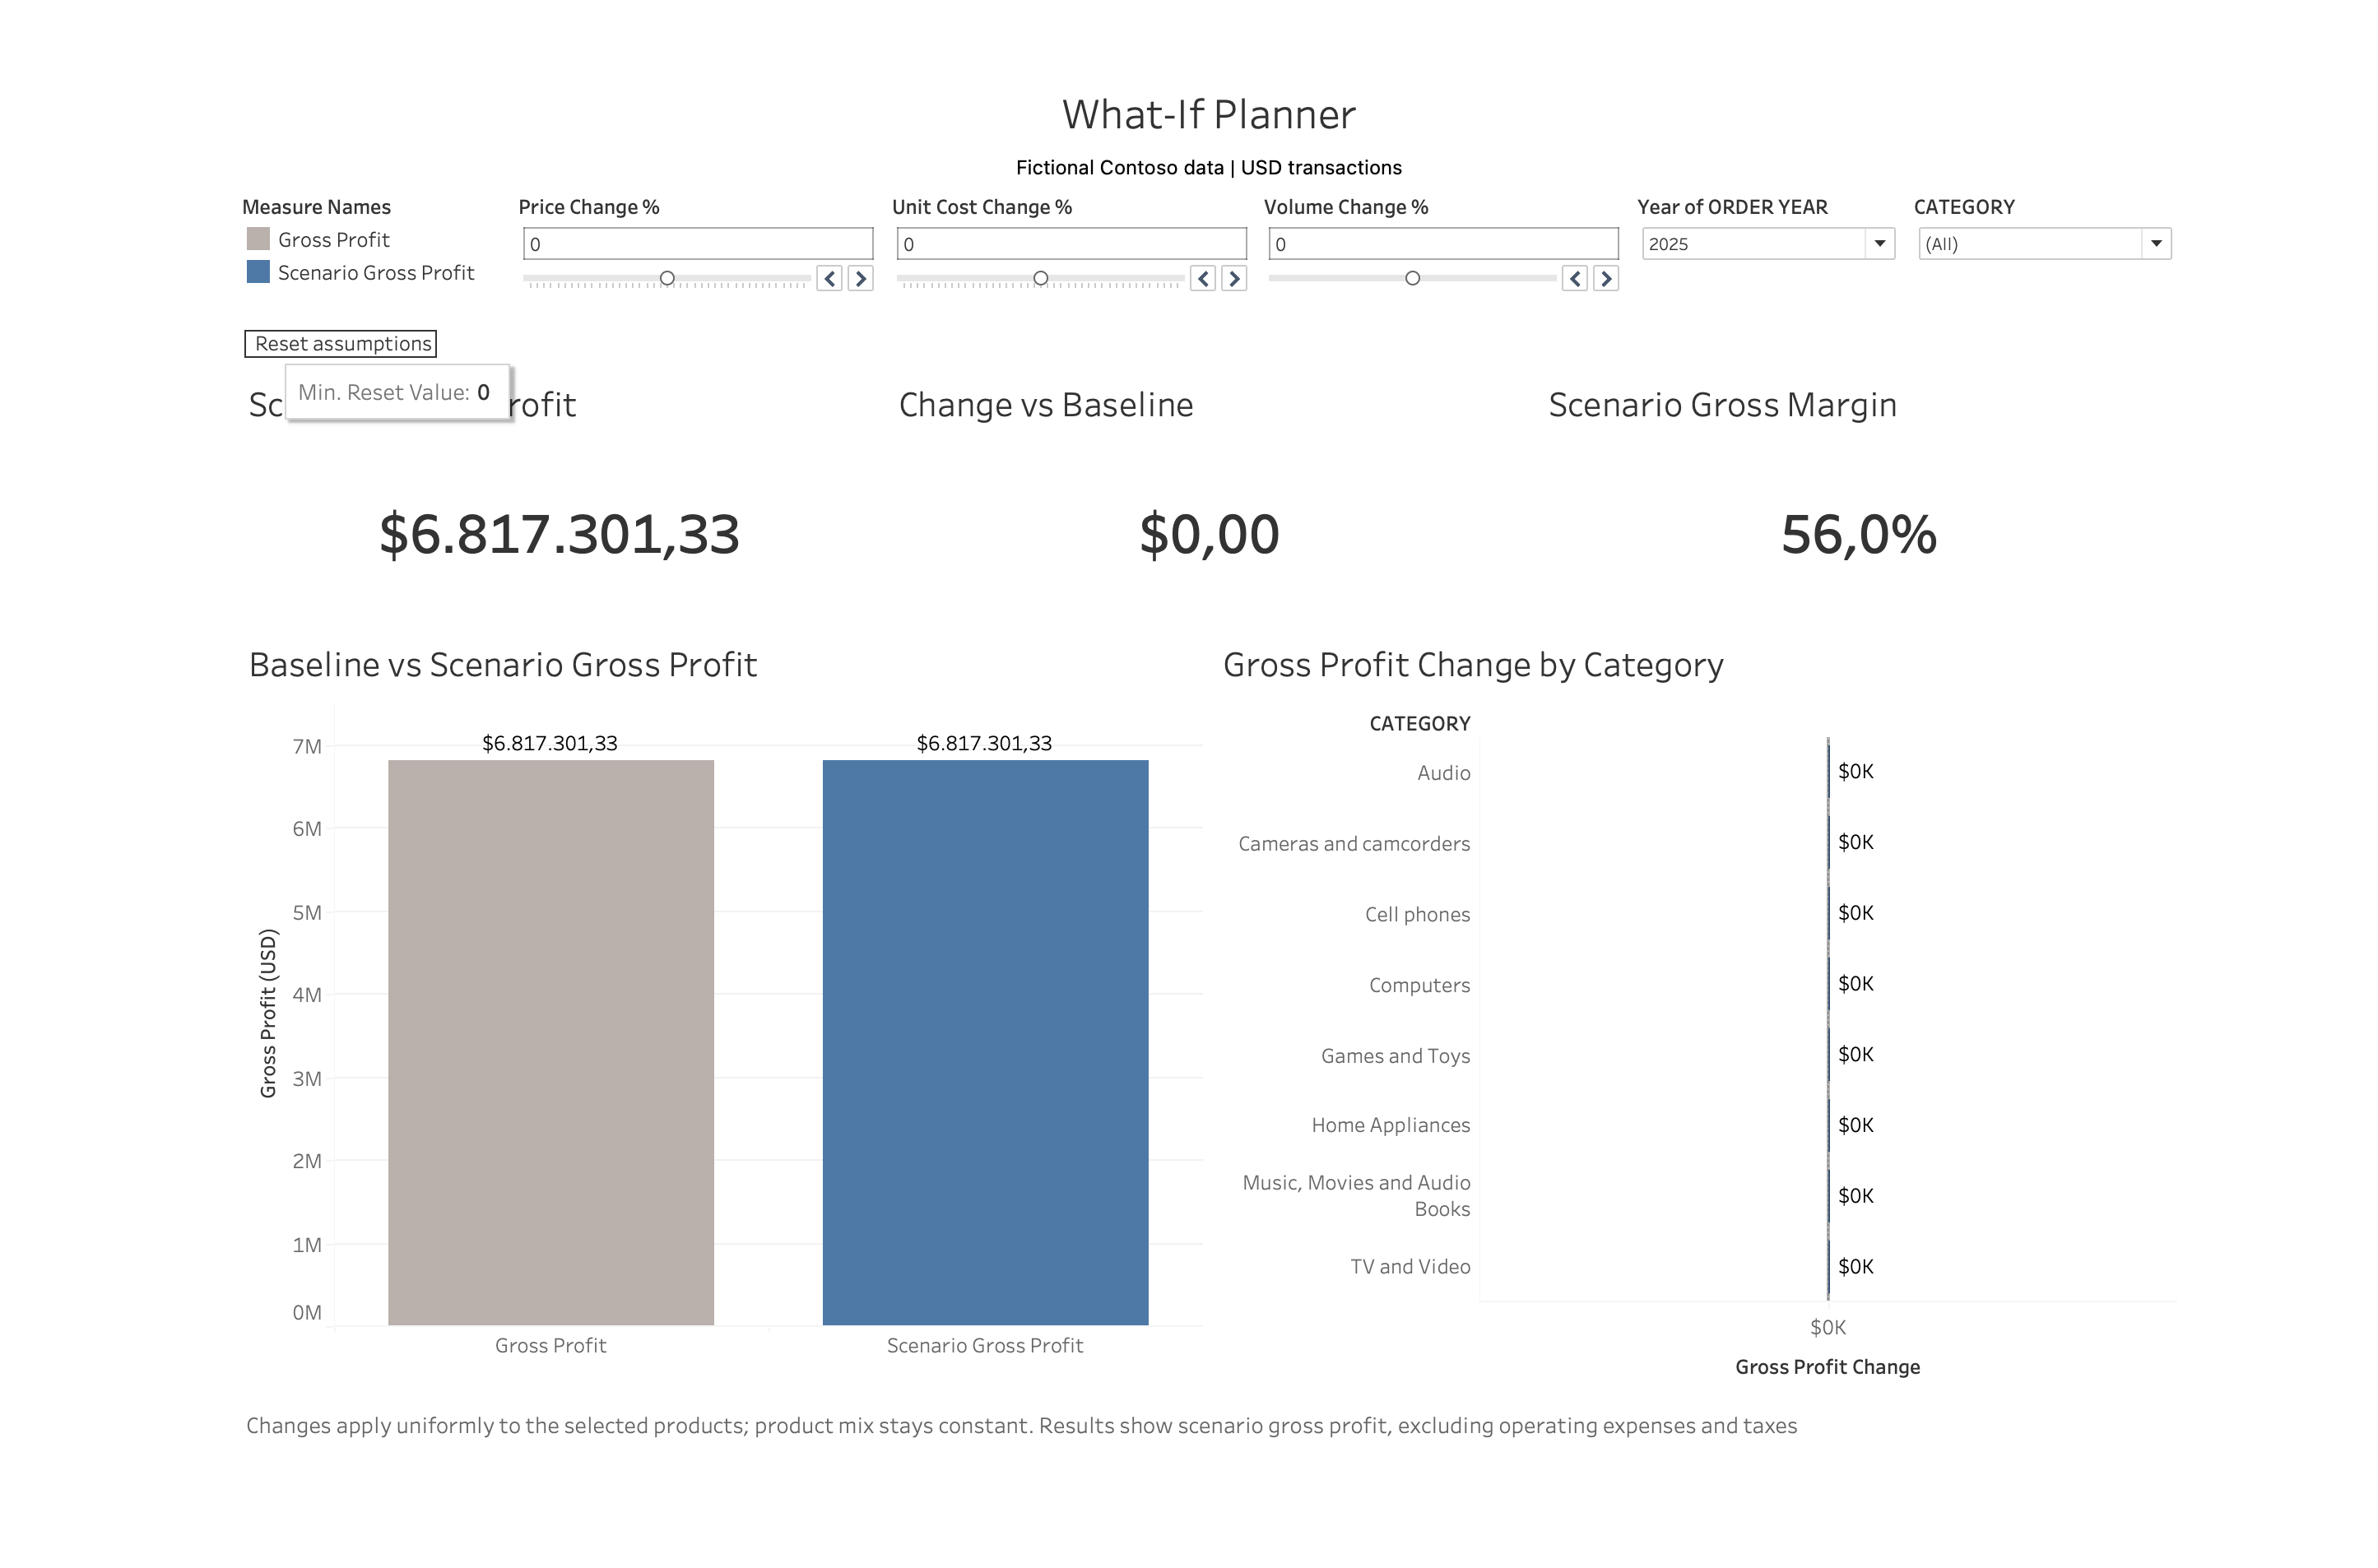

This screenshot's page, from the dashboard's own definition file:
{"tool":"tableau","page":{"name":"3 What-If Planner","canvas":[1200,850],"ordinal":2},"visuals":[{"type":"title","box":[8,8,1184,42]},{"type":"text","box":[8,50,1184,23]},{"type":"legend","title":"12 Baseline vs Scenario","param":"[federated.0wc9mog19mnc4j17oa5d400orr0l].[:Measure Names]","box":[8,73,168,82]},{"type":"parameter","param":"[Parameters].[Parameter 0707992022224899]","box":[176,73,226.7,82]},{"type":"parameter","param":"[Parameters].[Parameter 0707992022790148]","box":[402.7,73,226.7,82]},{"type":"parameter","param":"[Parameters].[Parameter 0707992030785541]","box":[629.3,73,226.7,82]},{"type":"filter","title":"09 Scenario Gross Profit","param":"[federated.0wc9mog19mnc4j17oa5d400orr0l].[yr:ORDER YEAR:ok]","box":[856,73,168,82]},{"type":"filter","title":"09 Scenario Gross Profit","param":"[federated.0wc9mog19mnc4j17oa5d400orr0l].[none:CATEGORY:nk]","box":[1024,73,168,82]},{"type":"worksheet","title":"14 Reset Assumptions","mark":"Text","box":[8,155,1184,28]},{"type":"worksheet","title":"09 Scenario Gross Profit","mark":"Automatic","box":[8,183,395,158]},{"type":"worksheet","title":"10 Gross Profit Change","mark":"Automatic","box":[403,183,395,158]},{"type":"worksheet","title":"11 Scenario Margin","mark":"Automatic","box":[798,183,394,158]},{"type":"worksheet","title":"12 Baseline vs Scenario","mark":"Automatic","box":[8,341,592,469]},{"type":"worksheet","title":"13 Category Impact","mark":"Bar","rows":["CATEGORY"],"cols":["Calculation_0494756247191554"],"box":[600,341,592,469]},{"type":"text","box":[8,810,1184,32]}]}

Visuals, with their boxes on the page's 1200x850 design canvas (x1, y1, x2, y2). These are canvas units, not pixel positions in the 2378x1568 screenshot, which may show the page scaled, cropped or inside an application window:
title: locate(8, 8, 1192, 50)
text: locate(8, 50, 1192, 73)
"12 Baseline vs Scenario" legend: locate(8, 73, 176, 155)
parameter: locate(176, 73, 403, 155)
parameter: locate(403, 73, 629, 155)
parameter: locate(629, 73, 856, 155)
"09 Scenario Gross Profit" filter: locate(856, 73, 1024, 155)
"09 Scenario Gross Profit" filter: locate(1024, 73, 1192, 155)
"14 Reset Assumptions" worksheet (Text marks): locate(8, 155, 1192, 183)
"09 Scenario Gross Profit" worksheet: locate(8, 183, 403, 341)
"10 Gross Profit Change" worksheet: locate(403, 183, 798, 341)
"11 Scenario Margin" worksheet: locate(798, 183, 1192, 341)
"12 Baseline vs Scenario" worksheet: locate(8, 341, 600, 810)
"13 Category Impact" worksheet (Bar marks): locate(600, 341, 1192, 810)
text: locate(8, 810, 1192, 842)
